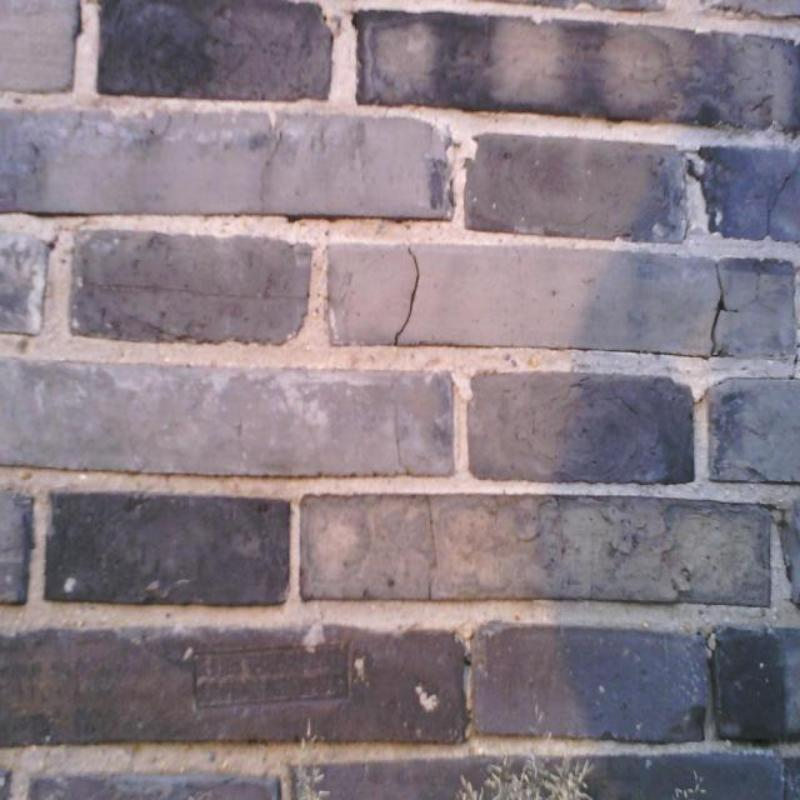crack: (694, 354, 799, 404), (710, 263, 740, 358), (394, 245, 420, 346), (767, 175, 791, 236), (394, 404, 410, 475), (425, 495, 438, 561)
